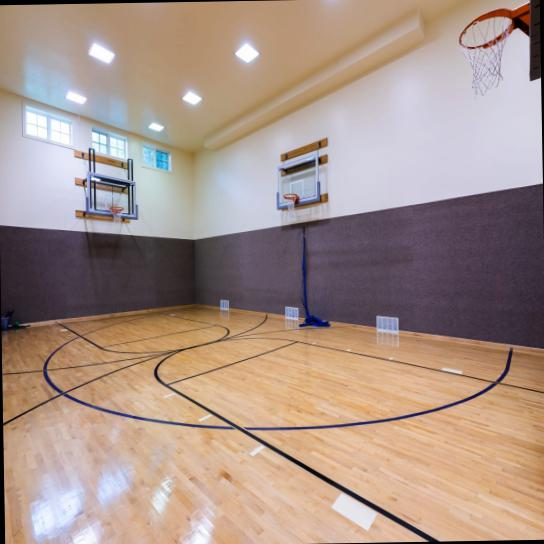basketball-hoop: (455, 4, 516, 94), (282, 193, 298, 214), (108, 205, 124, 224)
